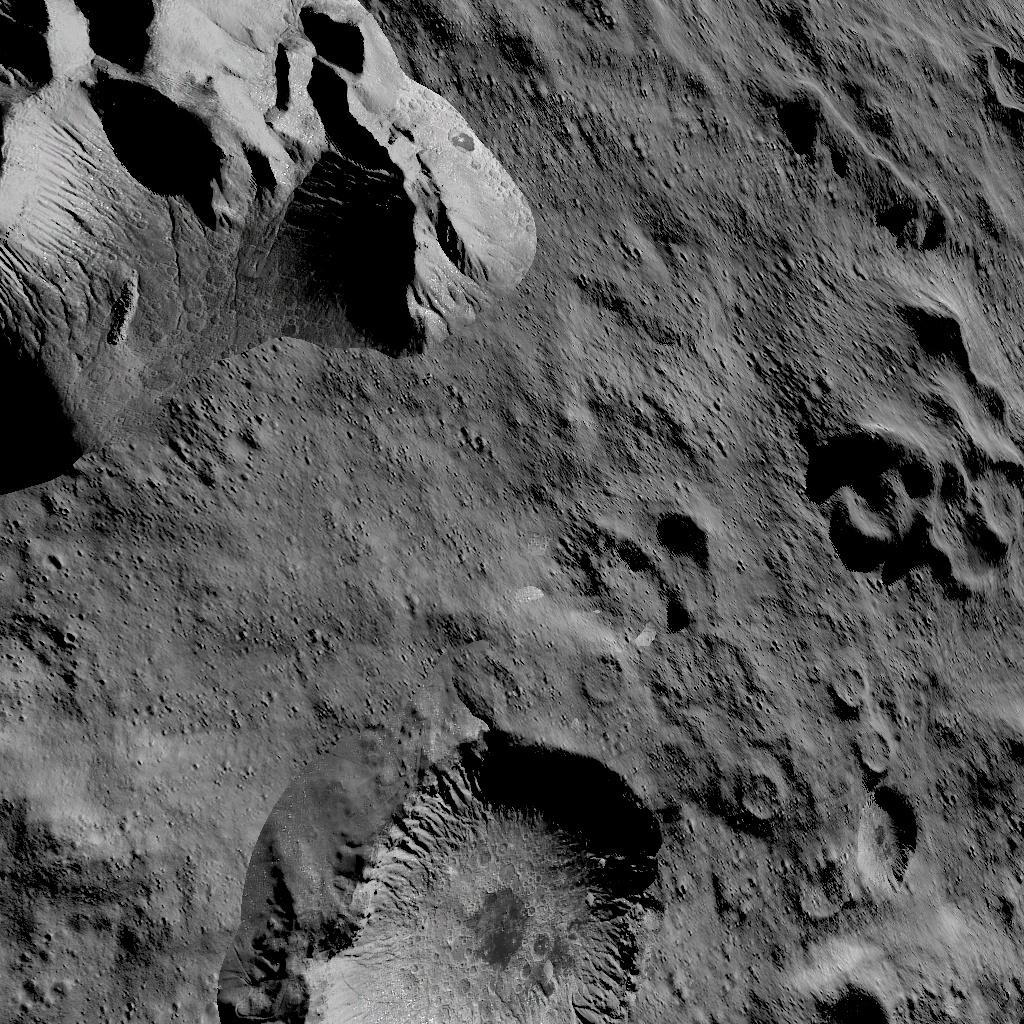Boulders: (0, 0, 548, 505)
Crater: (266, 726, 718, 1024), (811, 418, 1024, 602), (656, 508, 738, 636), (854, 793, 938, 908), (844, 726, 906, 787), (792, 860, 848, 927), (822, 656, 886, 714), (576, 650, 638, 706), (738, 768, 792, 832)
Plan surface: (0, 530, 256, 1024), (560, 154, 853, 399), (270, 522, 542, 712)
